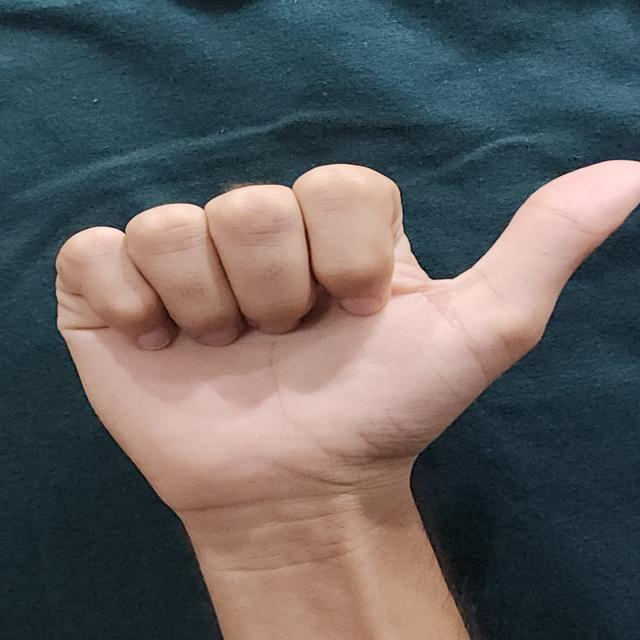چ: (37, 149, 640, 583)
